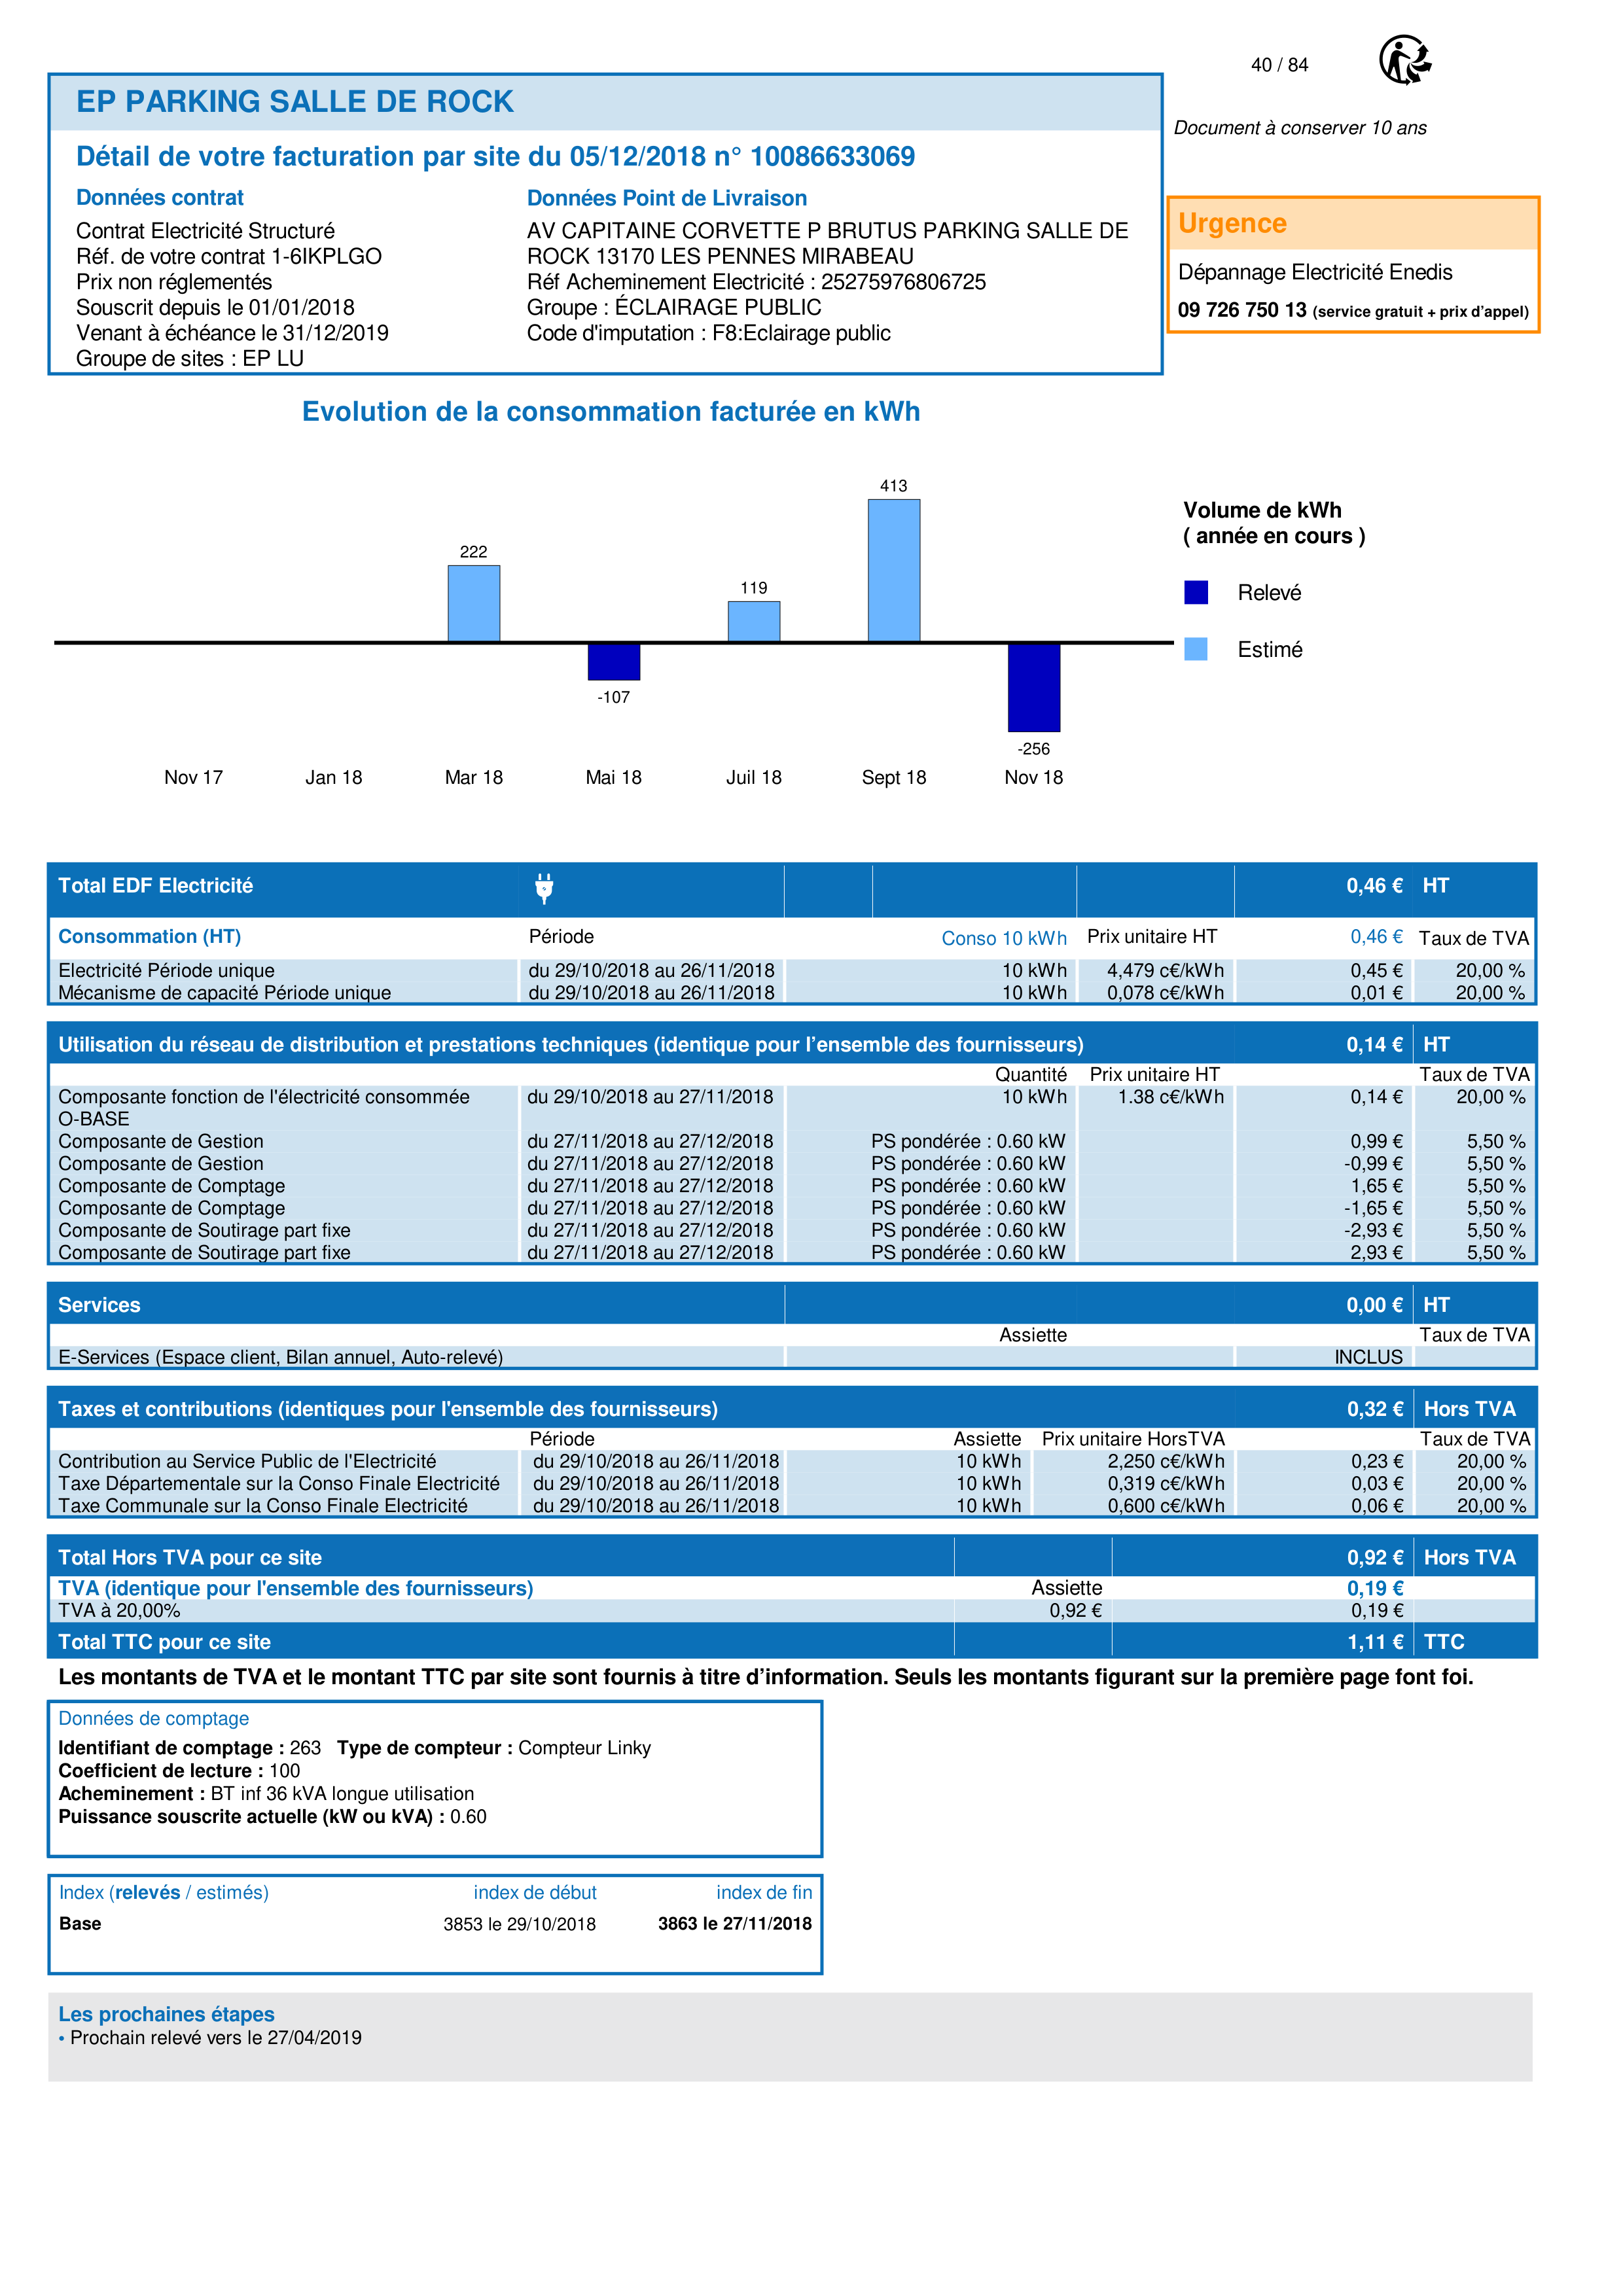area: (48, 1872, 825, 1976)
type_indicator: (48, 1874, 276, 1911)
